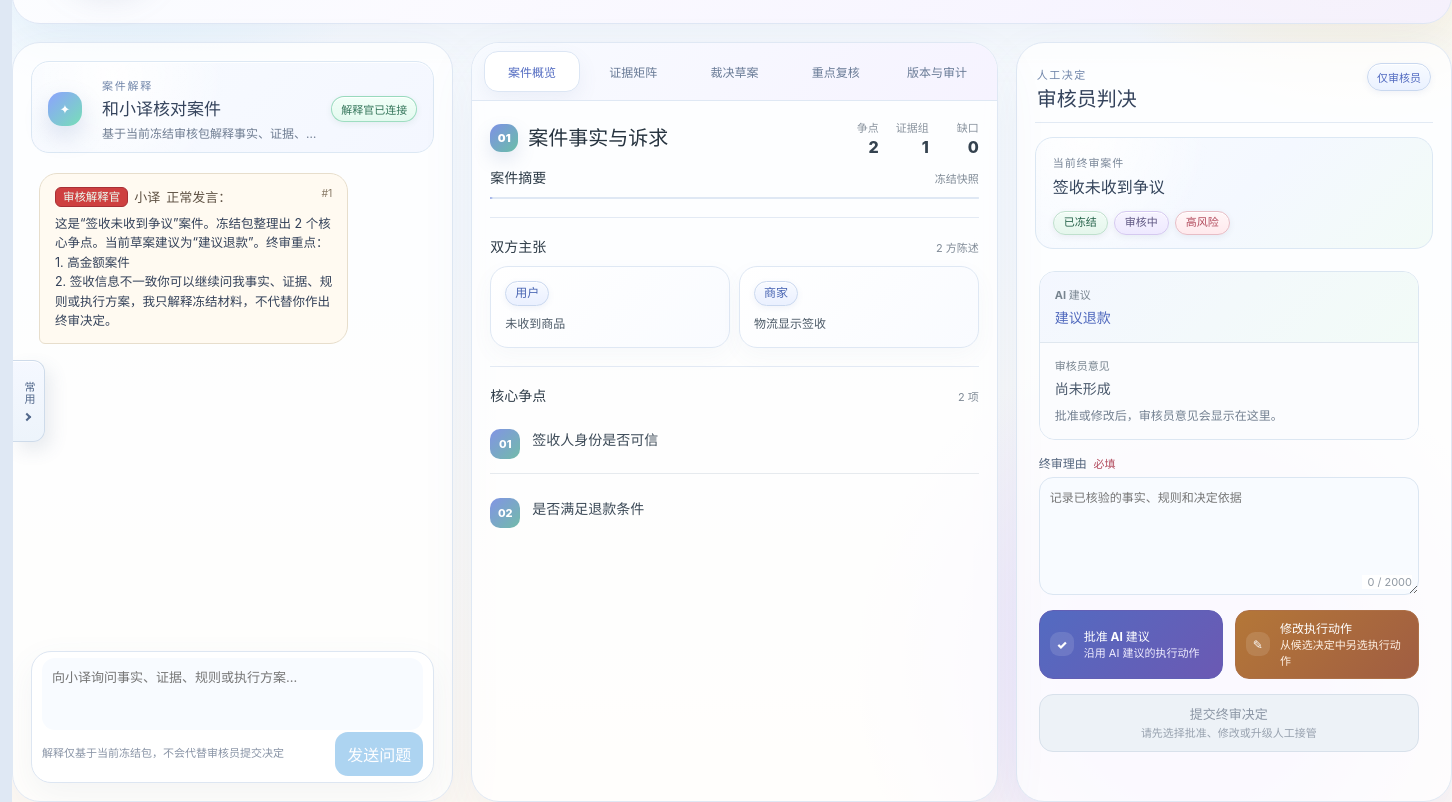
Test: ReviewWorkbenchView › streams the reviewer copilot answer through the shared AgentRun component
(page scrolled)
Type "最需要复核什么？" into the text box with placeholder "向小译询问事实、证据、规则或执行方案…" at (233, 694), box [42,658,423,730]
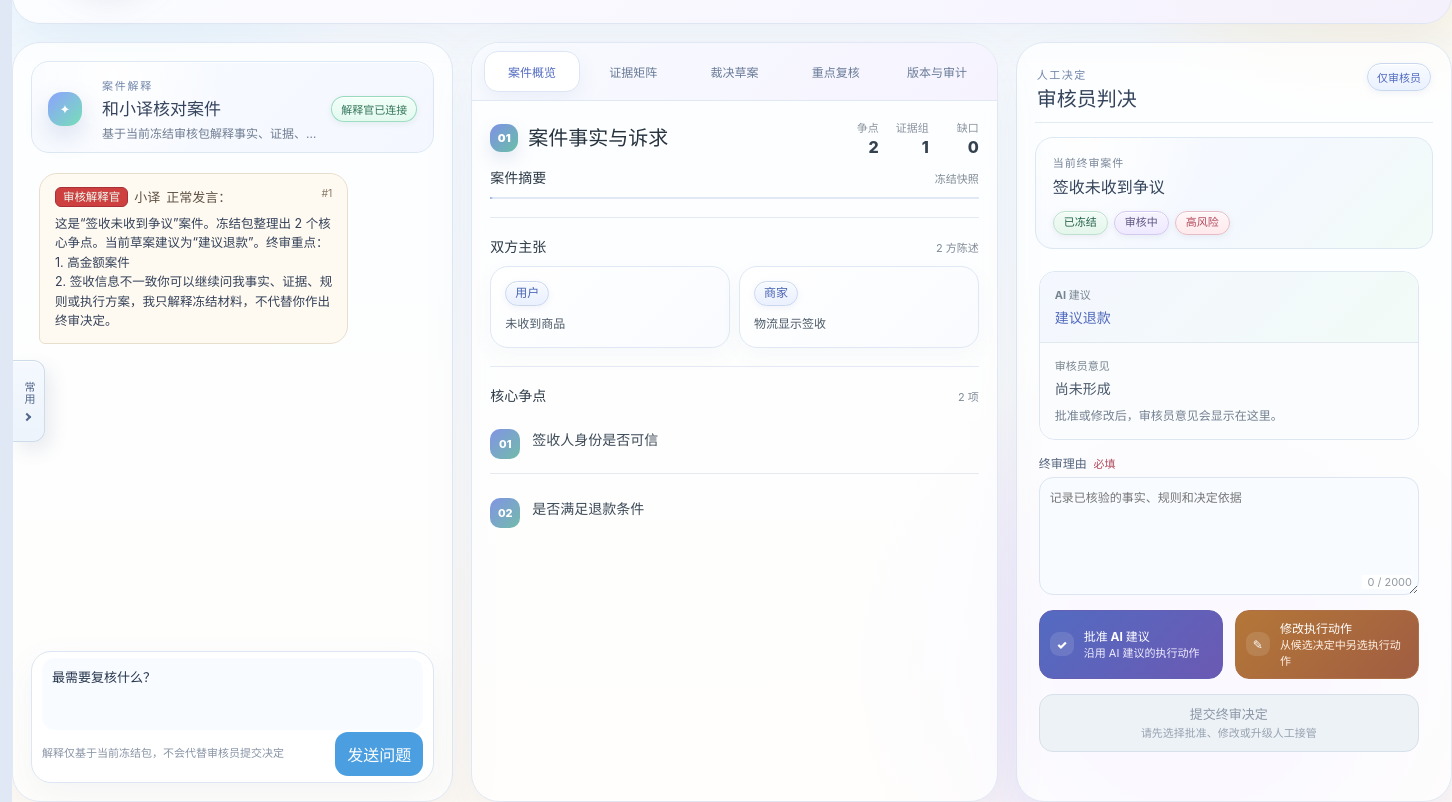
Submit the form, box [31,651,434,783]
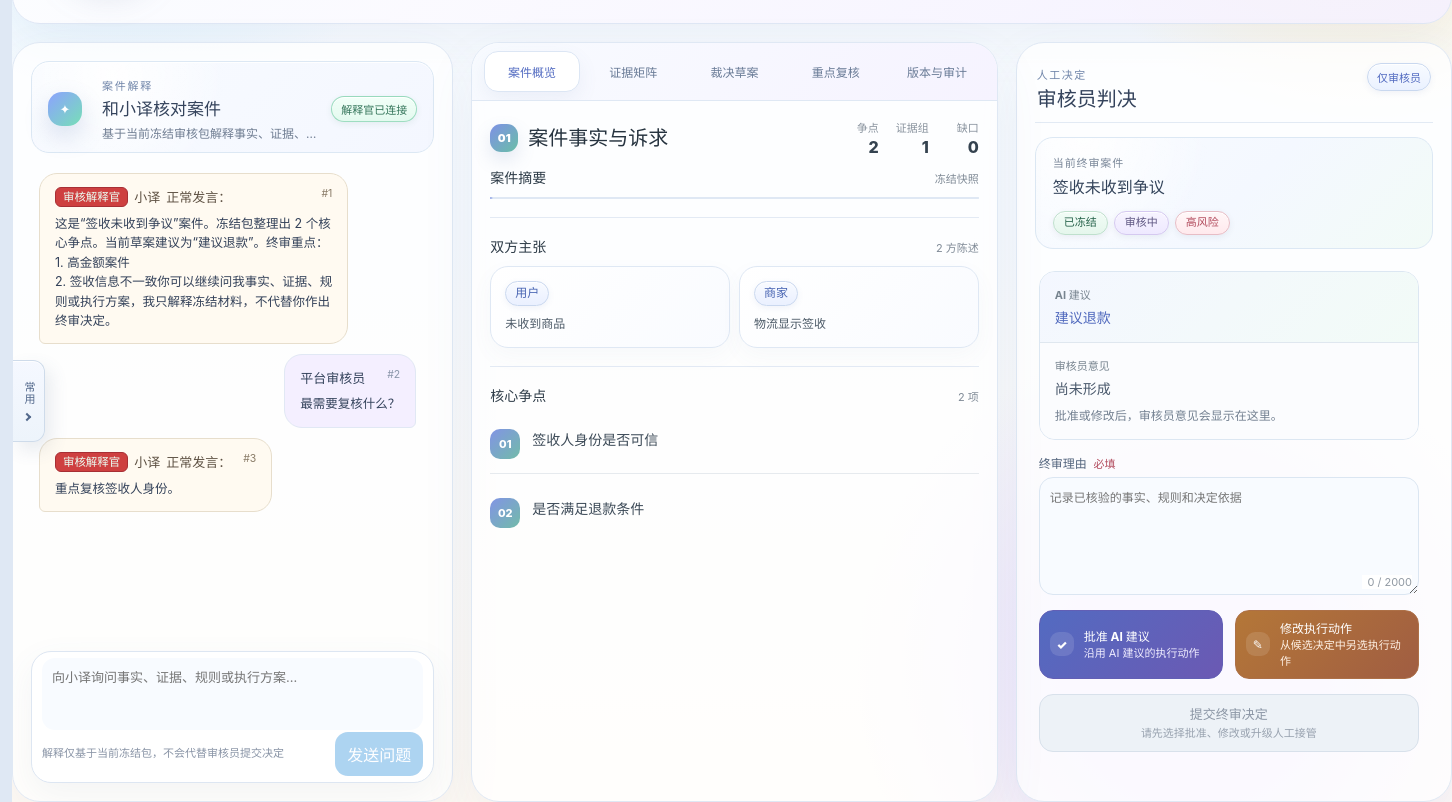
Expected: the text "重点复核签收人身份。" is shown, [55,481,180,496]
